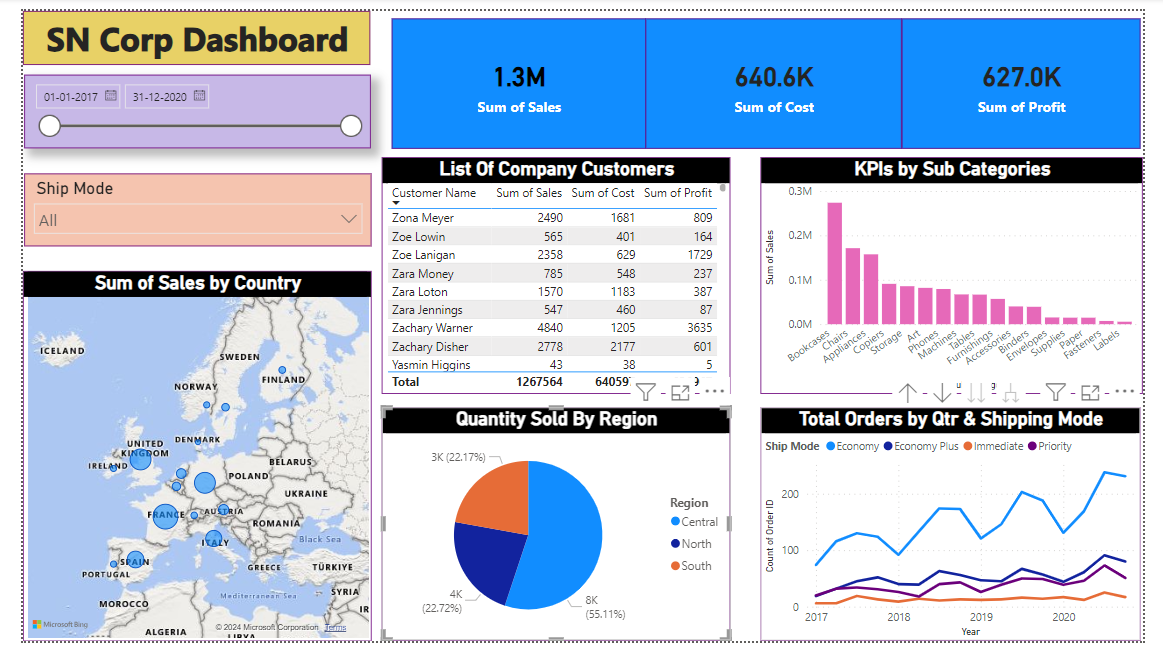

The dashboard page shown, as its layout file describes it:
{"tool":"powerbi","page":{"name":"Page 1","canvas":[1280,720],"ordinal":0},"visuals":[{"type":"card","fields":{"Values":["Sum(List of Orders.Sales)"]},"box":[421.4,8.6,290,148.6],"z":0},{"type":"card","fields":{"Values":["Sum(List of Orders.Cost)"]},"box":[711.4,8.6,292.9,148.6],"z":1000},{"type":"card","fields":{"Values":["Sum(List of Orders.Profit)"]},"box":[1004.3,8.6,272.9,148.6],"z":2000},{"type":"tableEx","title":"List Of Company Customers","fields":{"Values":["List of Orders.Customer Name","Sum(List of Orders.Sales)","Sum(List of Orders.Cost)","Sum(List of Orders.Profit)"]},"box":[410,167.1,398.6,270],"z":3000},{"type":"clusteredColumnChart","title":"KPIs by Sub Categories","fields":{"Category":["List of Orders.Sub-Category"],"Y":["Sum(List of Orders.Sales)"]},"box":[842.9,167.1,437.1,270],"z":4000},{"type":"lineChart","title":"Total Orders by Qtr & Shipping  Mode","fields":{"Y":["CountNonNull(List of Orders.Order ID)"],"Category":["List of Orders.Order Date.Variation.Date Hierarchy.Year","List of Orders.Order Date.Variation.Date Hierarchy.Quarter"],"Series":["List of Orders.Ship Mode"]},"box":[842.9,452.9,434.3,267.1],"z":5000},{"type":"pieChart","title":"Quantity Sold By Region","fields":{"Y":["Sum(List of Orders.Quantity)"],"Category":["List of Orders.Region"]},"box":[410,452.9,398.6,267.1],"z":6000},{"type":"map","fields":{"Category":["List of Orders.Country"],"Size":["Sum(List of Orders.Sales)"]},"box":[0,297.1,398.6,422.9],"z":7000},{"type":"textbox","box":[0,0,397.1,61.4],"z":8000},{"type":"slicer","fields":{"Values":["List of Orders.Ship Mode"]},"box":[1.4,185.7,397.1,82.9],"z":9000},{"type":"slicer","fields":{"Values":["List of Orders.Order Date"]},"box":[1.4,72.9,395.7,84.3],"z":10000}]}

Visuals, with their boxes in screenshot pixels (x1, y1, x2, y2), scaled from the page's 1280x720 canvas onto the 1163x657 screenshot:
card - Sum(List of Orders.Sales): x1=383, y1=8, x2=646, y2=143
card - Sum(List of Orders.Cost): x1=646, y1=8, x2=913, y2=143
card - Sum(List of Orders.Profit): x1=913, y1=8, x2=1160, y2=143
"List Of Company Customers" tableEx: x1=373, y1=152, x2=735, y2=399
"KPIs by Sub Categories" clusteredColumnChart: x1=766, y1=152, x2=1162, y2=399
"Total Orders by Qtr & Shipping  Mode" lineChart: x1=766, y1=413, x2=1160, y2=656
"Quantity Sold By Region" pieChart: x1=373, y1=413, x2=735, y2=656
map - List of Orders.Country x Sum(List of Orders.Sales): x1=0, y1=271, x2=362, y2=656
textbox: x1=0, y1=0, x2=361, y2=56
slicer - List of Orders.Ship Mode: x1=1, y1=169, x2=362, y2=245
slicer - List of Orders.Order Date: x1=1, y1=67, x2=361, y2=143
